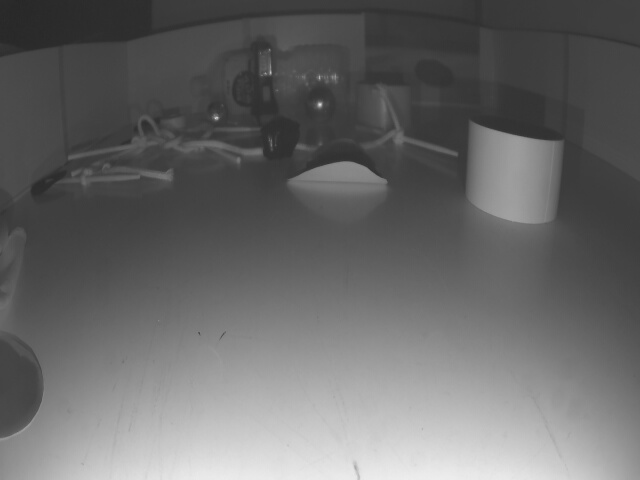Dead: (263, 117, 296, 154)
Live: (307, 88, 335, 122), (209, 103, 230, 125)
